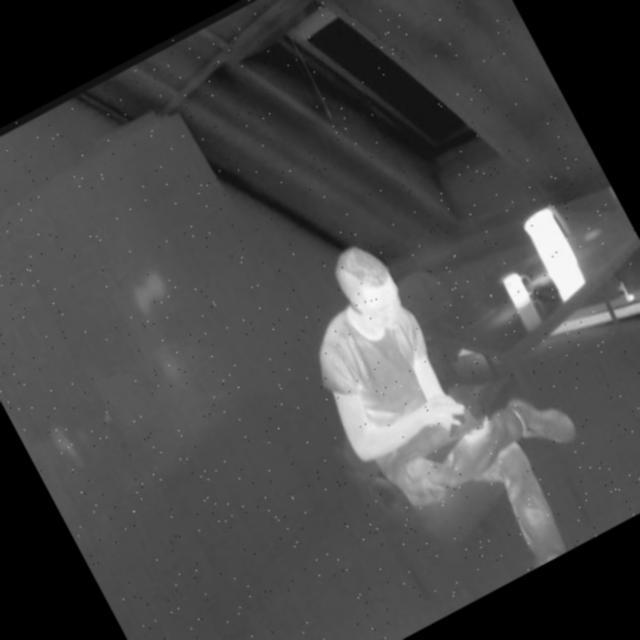person: (265, 187, 630, 618)
